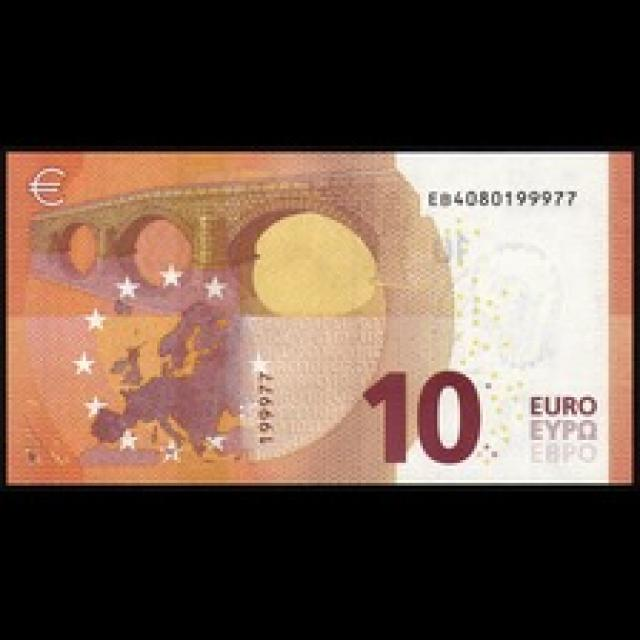banknote: (3, 148, 637, 486), (356, 363, 490, 472)
